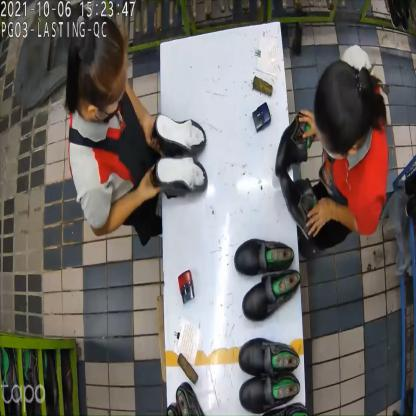shoes: (232, 233, 299, 324), (273, 110, 315, 239), (151, 105, 208, 200), (238, 334, 301, 416)
stamp: (252, 100, 274, 131), (178, 272, 197, 304)
